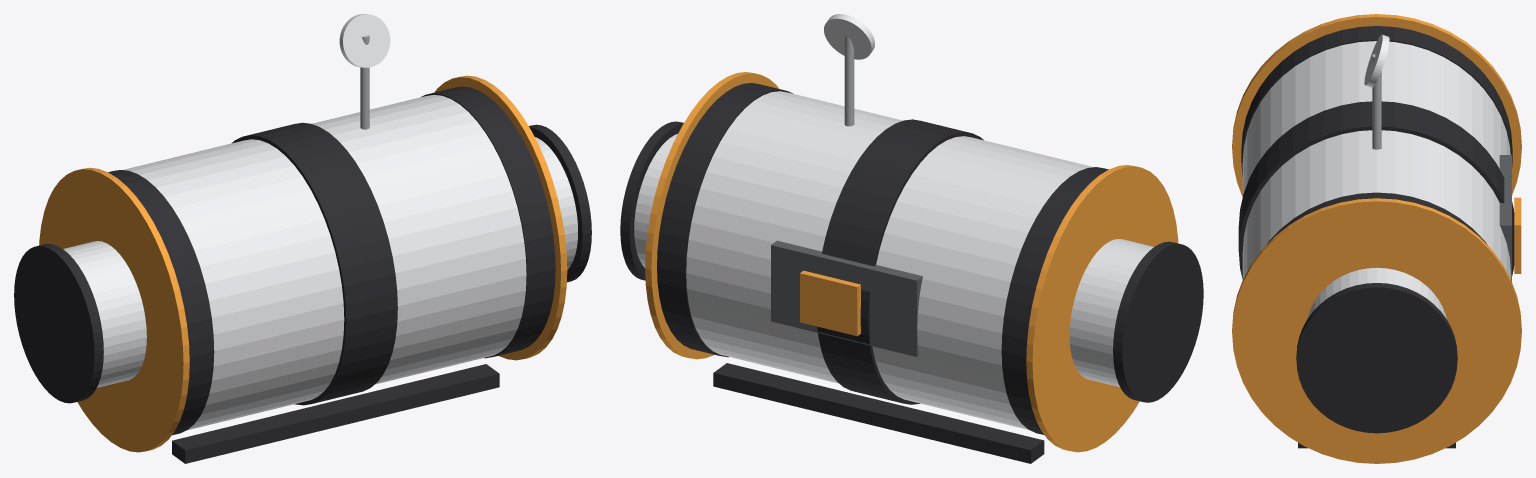
Rendered from SM_LAB1_LaboratoryModule.glb.
The picture shows the model from 3 angles, left to right: view 1: azimuth 30°, elevation 25°; view 2: azimuth 150°, elevation 25°; view 3: azimuth 270°, elevation 25°; orthographic projection.
Parts seen in each view (by area): view 1: SM_LAB1_LaboratoryModule; view 2: SM_LAB1_LaboratoryModule; view 3: SM_LAB1_LaboratoryModule.
Part boxes in pixels (box(x1,y1,x2,y2)): SM_LAB1_LaboratoryModule: box(14, 14, 591, 463); SM_LAB1_LaboratoryModule: box(620, 14, 1203, 463); SM_LAB1_LaboratoryModule: box(1232, 14, 1521, 463).
Bounding box in the file's own units: 9.63 × 6.75 × 4.86.
